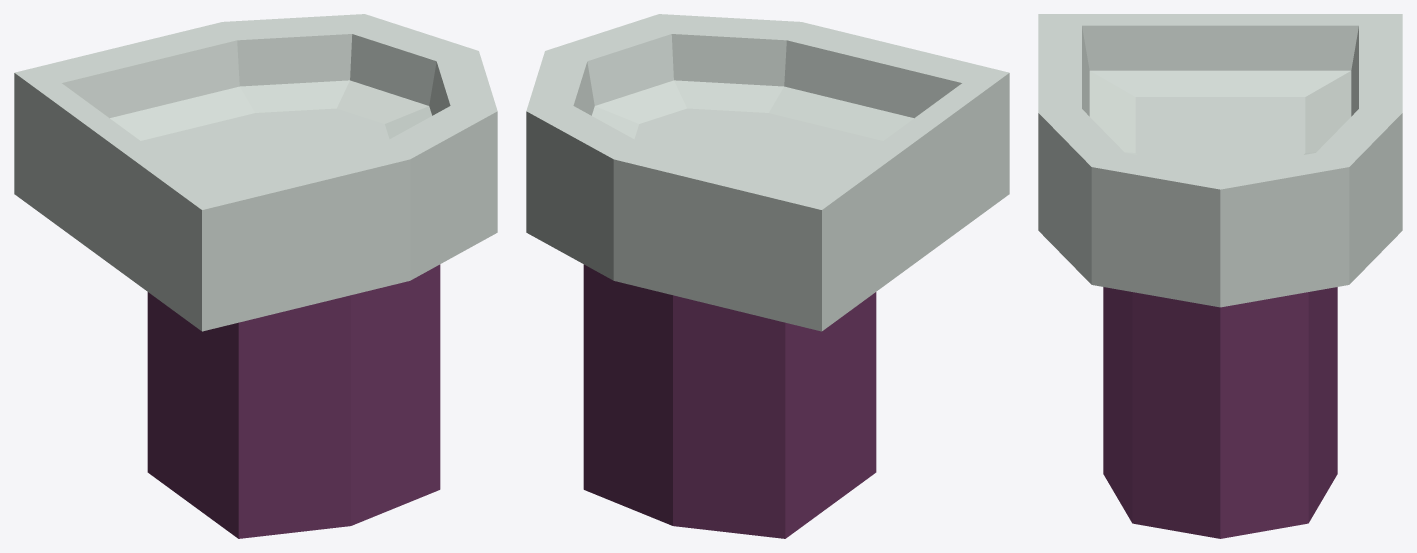
The model's file is sink.glb.
3 renders of one model, left to right at view 1: azimuth 30°, elevation 25°; view 2: azimuth 150°, elevation 25°; view 3: azimuth 270°, elevation 25°, orthographic. The views are drawn at different scales.
Parts seen in each view (by area): view 1: Plane.001, sink; view 2: Plane.001, sink; view 3: Plane.001, sink.
Part boxes in pixels (box(x1,y1,x2,y2)): Plane.001: box(14, 14, 497, 331); sink: box(147, 264, 440, 538); Plane.001: box(526, 14, 1009, 331); sink: box(583, 264, 876, 538); Plane.001: box(1038, 14, 1402, 307); sink: box(1103, 287, 1337, 538).
Bounding box in the file's own units: 1.37 × 1.36 × 1.2.
Materials: 2 (2 with a texture image).
